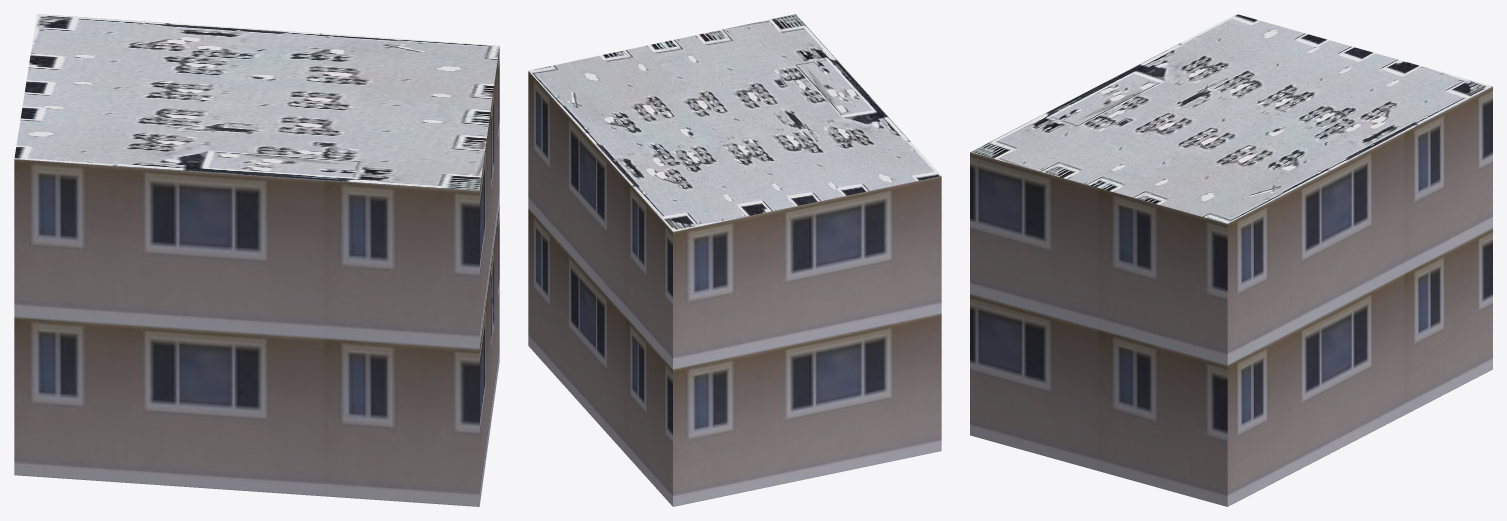
Rendered from ResTex__2102.fbx.
3 views of the same model, side by side, from view 1: azimuth 30°, elevation 25°; view 2: azimuth 150°, elevation 25°; view 3: azimuth 270°, elevation 25° (orthographic). The views are drawn at different scales.
Parts seen in each view (by area): view 1: CityEngineMaterial_21_m, CityEngineMaterial_4_m; view 2: CityEngineMaterial_21_m, CityEngineMaterial_4_m; view 3: CityEngineMaterial_21_m, CityEngineMaterial_4_m.
Part boxes in pixels (x1,y1,x2,y2): CityEngineMaterial_21_m: (14,47,499,506); CityEngineMaterial_4_m: (14,14,499,190); CityEngineMaterial_21_m: (528,71,941,506); CityEngineMaterial_4_m: (528,14,941,231); CityEngineMaterial_21_m: (970,86,1492,506); CityEngineMaterial_4_m: (970,14,1492,223).
Size of the model in its own units: 9.54 by 6 by 10.04.
Materials: 2 (2 with a texture image).
